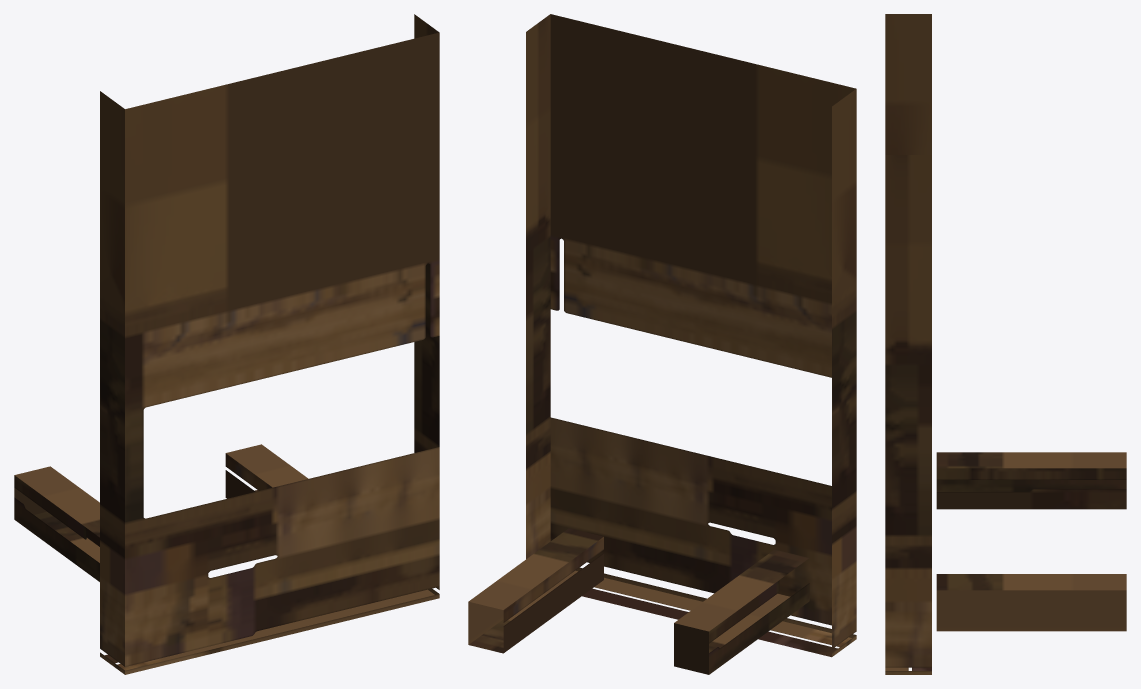
The model's file is section-3.obj.
The picture shows the model from 3 angles, left to right: view 1: azimuth 30°, elevation 25°; view 2: azimuth 150°, elevation 25°; view 3: azimuth 270°, elevation 25°; orthographic projection. The views are drawn at different scales.
Bounding box in the file's own units: 0.524 × 0.901 × 0.3785.
